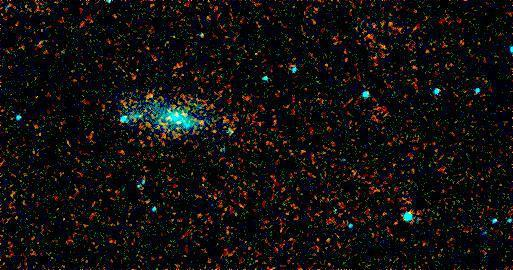star: (140, 80, 170, 110)
